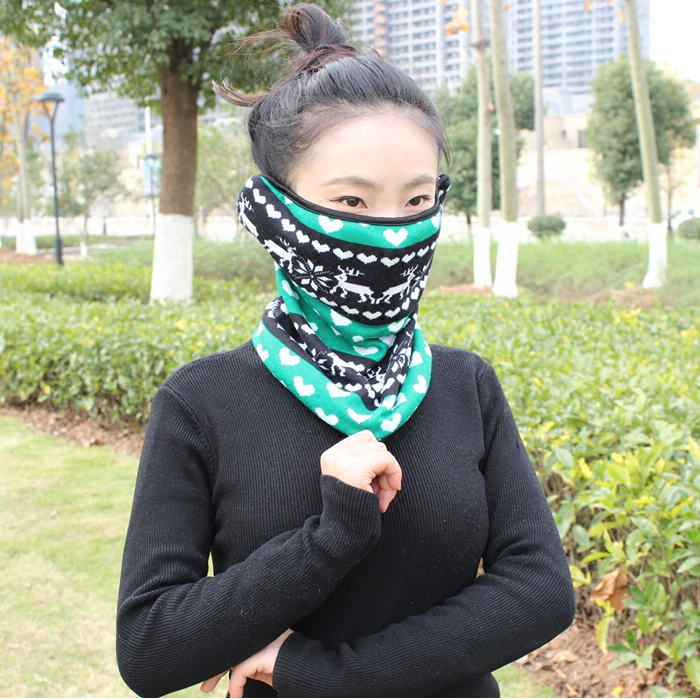face_mask: (286, 112, 441, 321)
